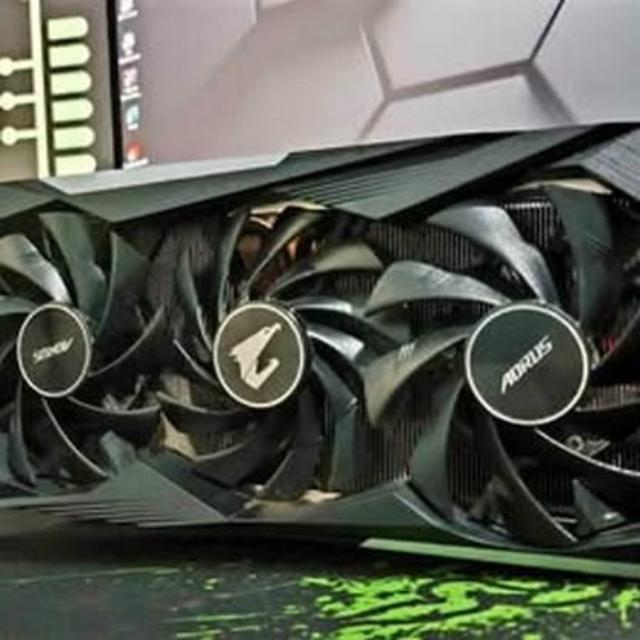GPU: (0, 140, 640, 572)
